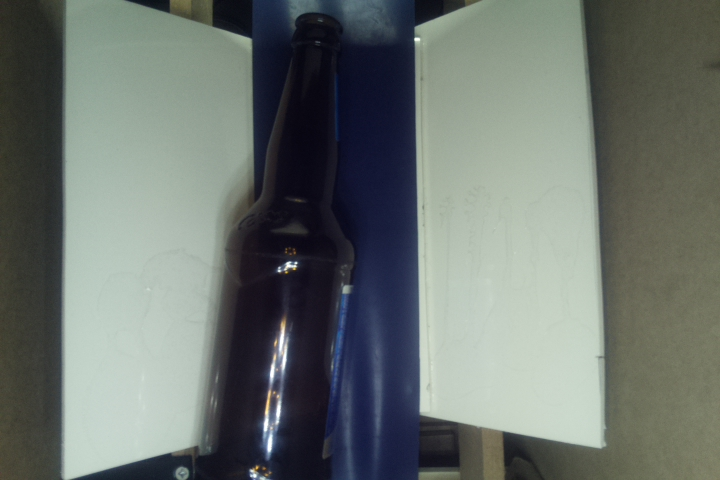makju: (206, 10, 356, 480)
